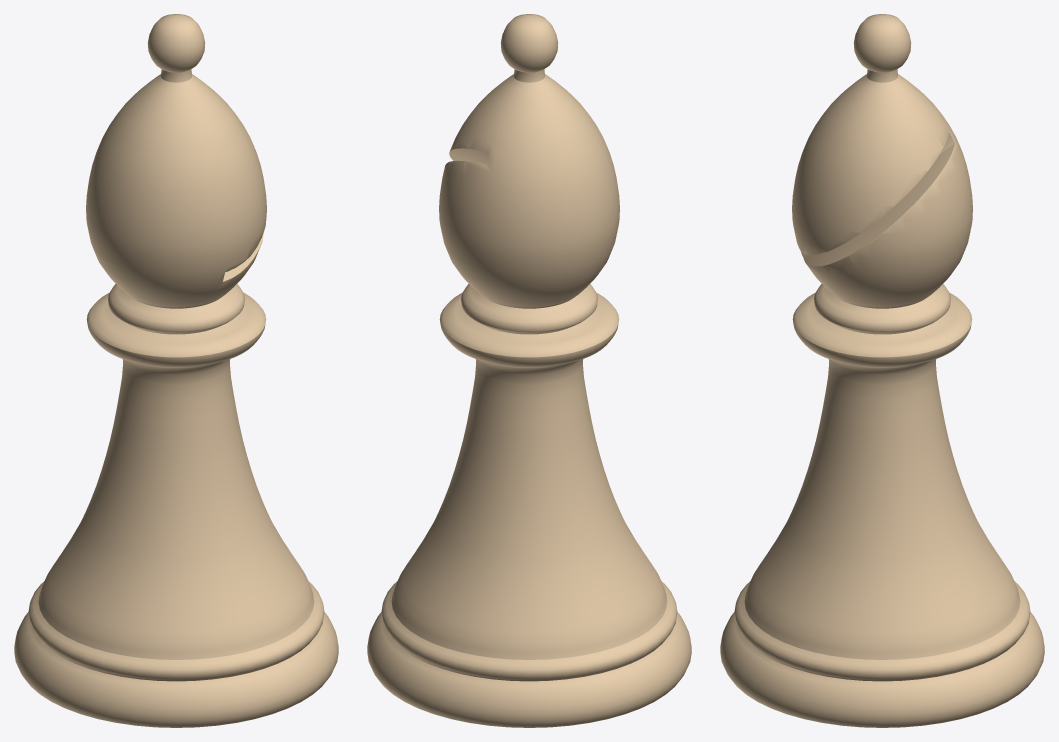
File: white-bishop.glb
3 renders of one model, left to right at view 1: azimuth 30°, elevation 25°; view 2: azimuth 150°, elevation 25°; view 3: azimuth 270°, elevation 25°, orthographic.
Parts seen in each view (by area): view 1: white-bishop.001; view 2: white-bishop.001; view 3: white-bishop.001.
Part boxes in pixels (x1,y1,x2,y2): white-bishop.001: (14,14,338,727); white-bishop.001: (367,14,691,727); white-bishop.001: (720,14,1044,727).
Size of the model in its own units: 0.62 by 1.36 by 0.62.
